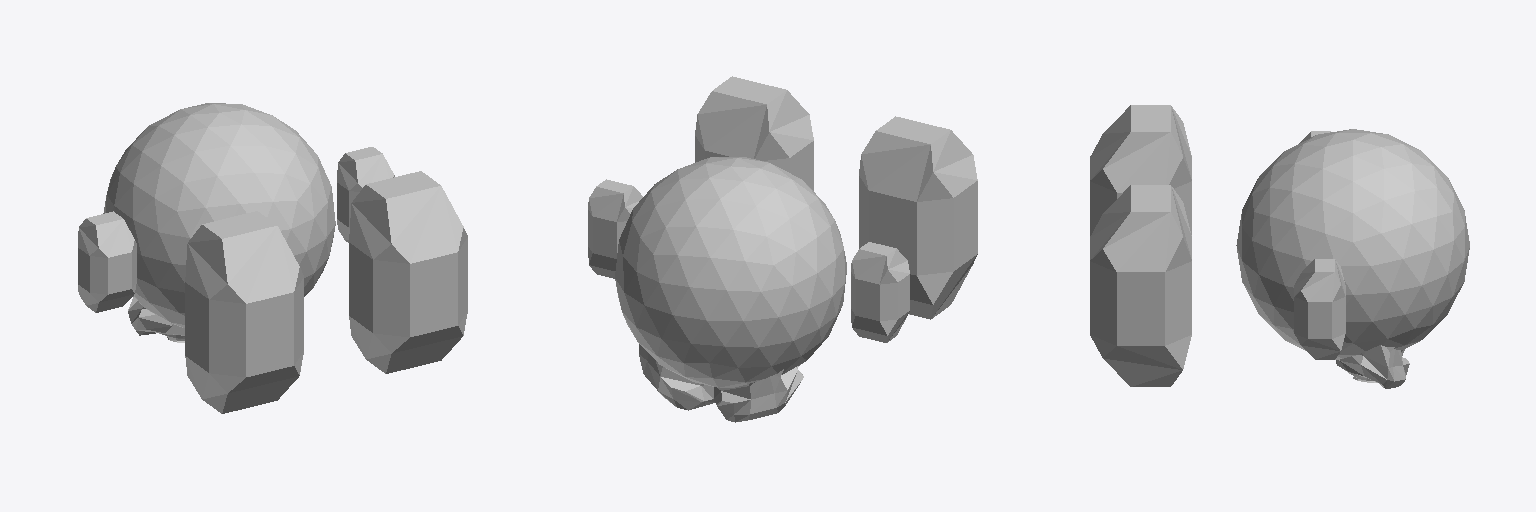
File: Character.obj
The picture shows the model from 3 angles: view 1: azimuth 30°, elevation 25°; view 2: azimuth 150°, elevation 25°; view 3: azimuth 270°, elevation 25°; orthographic projection.
Visible parts, largest first — view 1: Body_Icosphere.001, LFoot_Cube.002, RFoot_Cube, LHand_Cube.004, RHand_Cube.003, Eyes; view 2: Body_Icosphere.001, LFoot_Cube.002, RFoot_Cube, LHand_Cube.004, Eyes, RHand_Cube.003; view 3: Body_Icosphere.001, RFoot_Cube, LFoot_Cube.002, RHand_Cube.003, Eyes.
Part boxes in pixels (bbox=[...]): Body_Icosphere.001: bbox=[103, 103, 335, 327]; LFoot_Cube.002: bbox=[185, 211, 303, 413]; RFoot_Cube: bbox=[349, 171, 467, 373]; LHand_Cube.004: bbox=[78, 211, 136, 312]; RHand_Cube.003: bbox=[337, 147, 394, 242]; Eyes: bbox=[128, 296, 184, 342]; Body_Icosphere.001: bbox=[615, 157, 846, 387]; LFoot_Cube.002: bbox=[859, 116, 977, 319]; RFoot_Cube: bbox=[695, 76, 813, 190]; LHand_Cube.004: bbox=[851, 242, 909, 342]; Eyes: bbox=[639, 344, 803, 422]; RHand_Cube.003: bbox=[588, 179, 642, 278]; Body_Icosphere.001: bbox=[1236, 129, 1469, 359]; RFoot_Cube: bbox=[1090, 185, 1191, 386]; LFoot_Cube.002: bbox=[1090, 105, 1191, 235]; RHand_Cube.003: bbox=[1294, 259, 1345, 359]; Eyes: bbox=[1336, 345, 1409, 388].
Bounding box in the file's own units: 3.29 × 2.37 × 3.51.